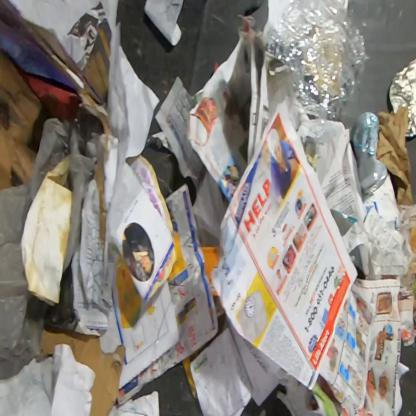cardboard: (20, 18, 113, 120), (79, 112, 120, 318), (40, 327, 126, 415), (0, 49, 52, 189), (376, 106, 415, 206)
metal: (350, 110, 388, 195), (388, 56, 415, 139)
soft_plastic: (0, 106, 111, 382), (266, 0, 372, 137), (44, 264, 78, 332)
